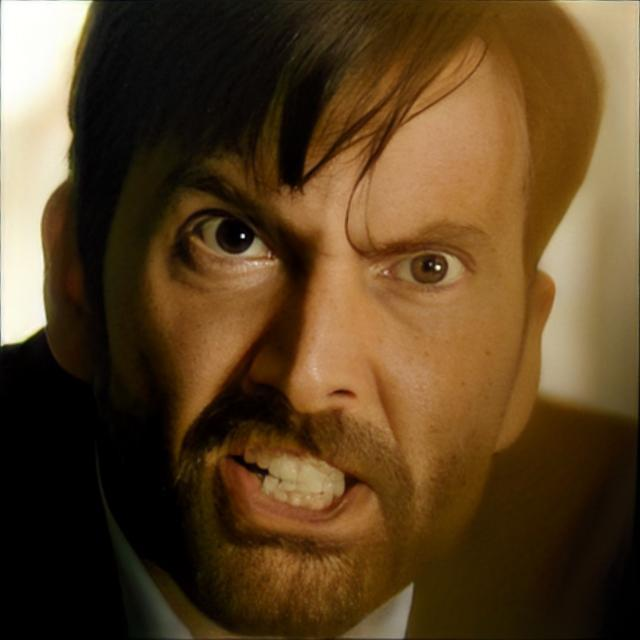anger: (108, 57, 526, 614)
